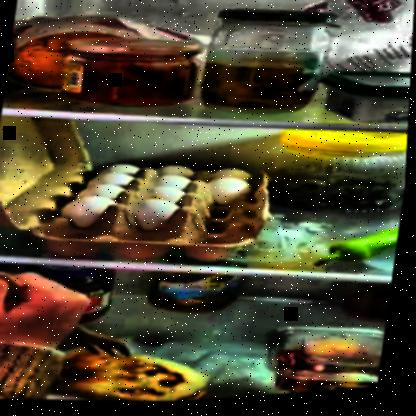cream_cheese: (319, 70, 411, 135)
eggs: (63, 155, 263, 244)
green_chillies: (318, 226, 401, 276)
olives: (274, 163, 407, 225)
